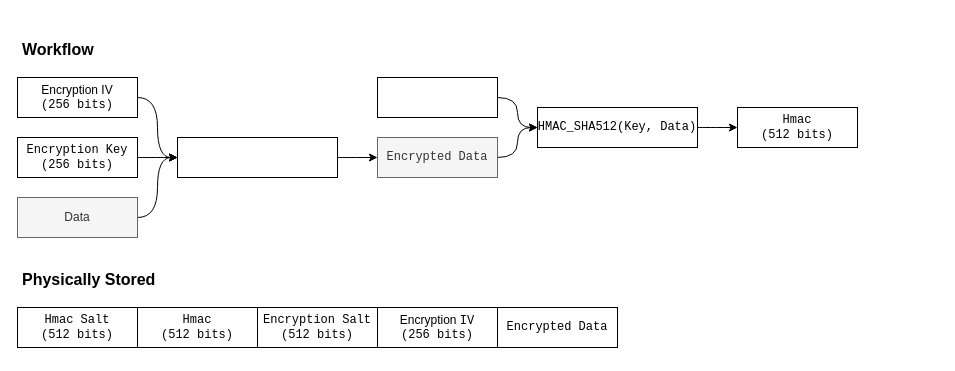
The diagram is 955 pixels wide and 371 high, and some of its shapes have lost their labels. Here are the shapes that lost their labels. From the top down, the box of each, then its label:
(376, 76, 498, 118): Hmac Key (512 bits)
(176, 136, 338, 178): AES256(IV, Key, Data)
